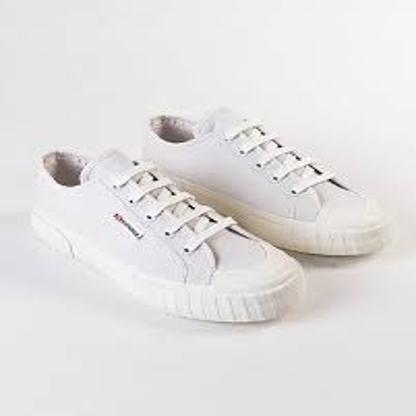not trash: (32, 102, 393, 324)
